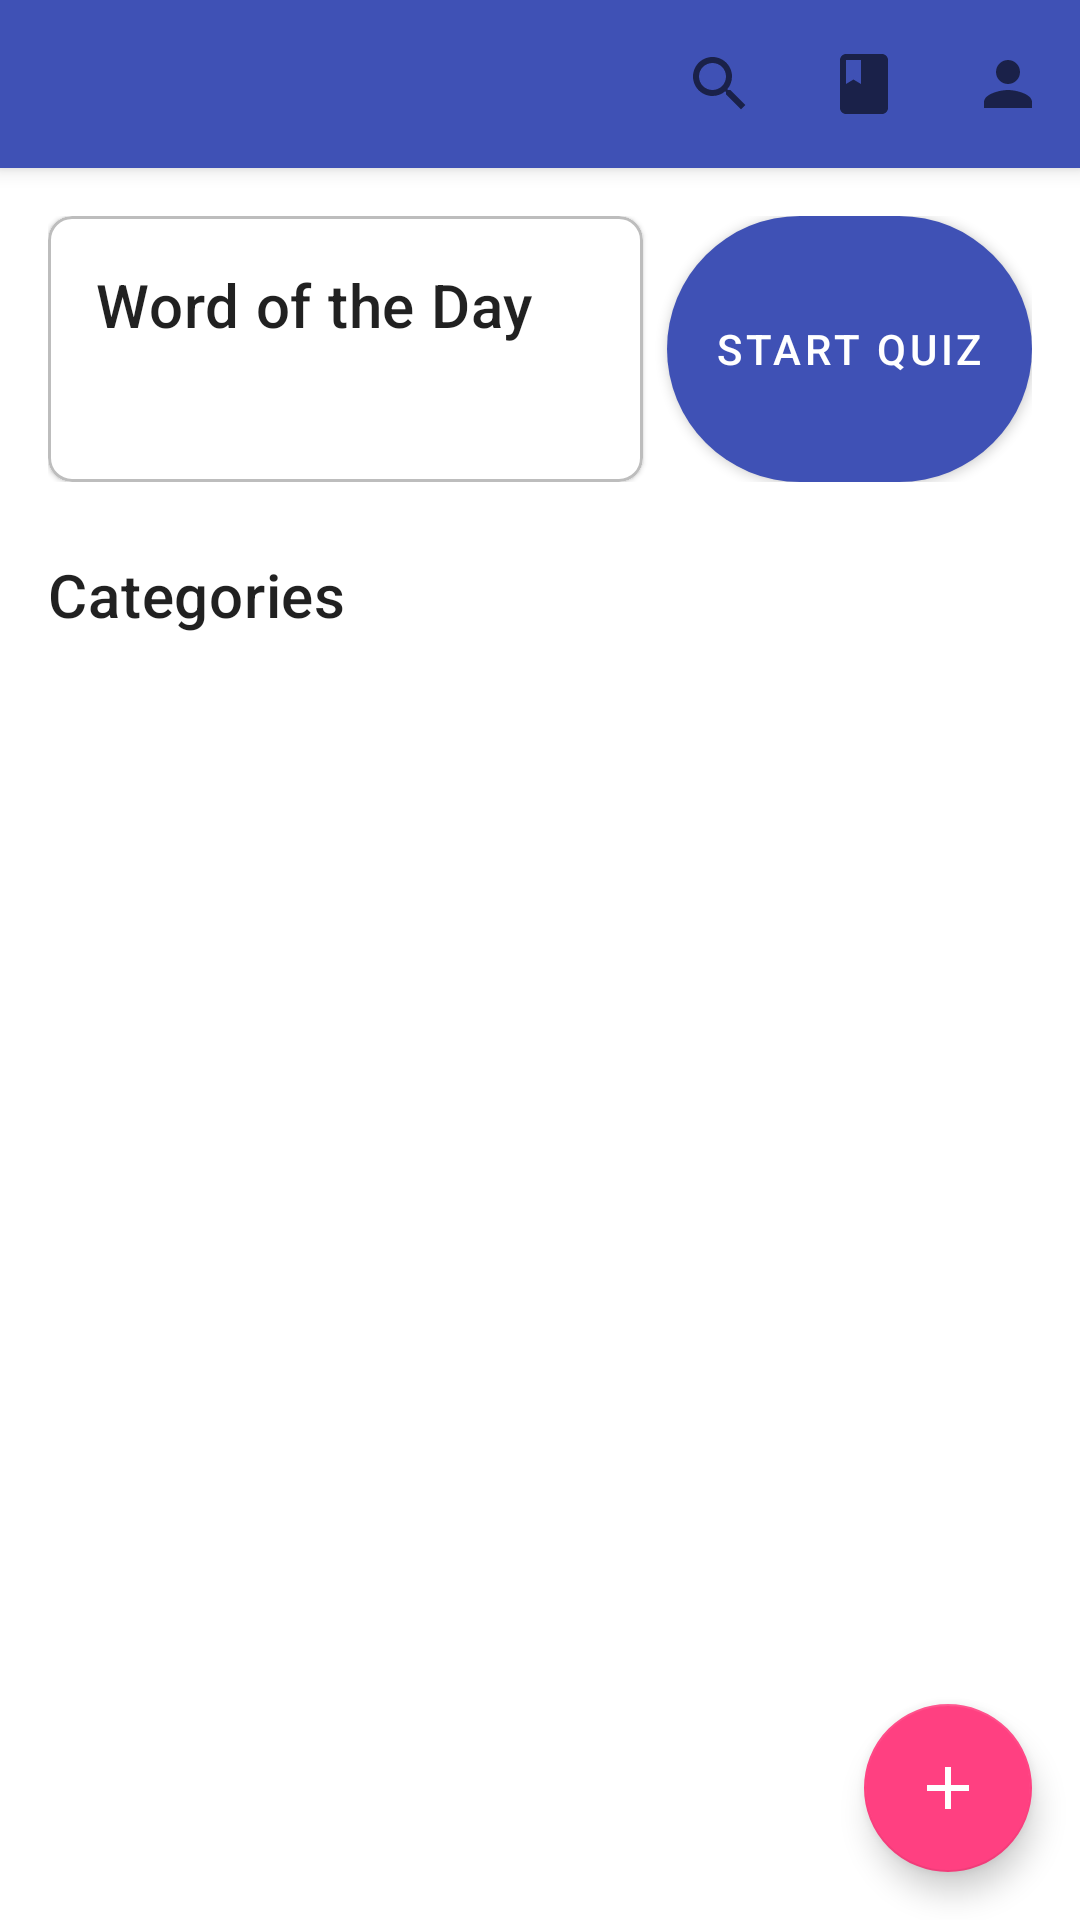

Icon click points for this 1080 x 1920 phone screenshot, format point (x, y):
Add New Word: point (948, 1788)
